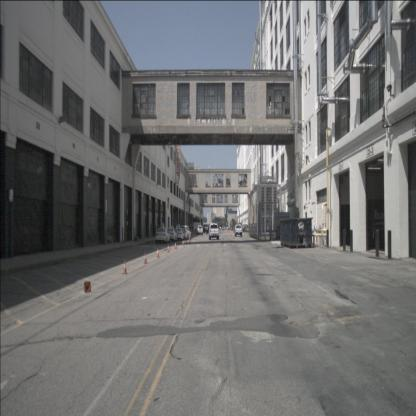human-pedestrian-adult: (157, 224, 160, 238), (193, 224, 196, 234), (176, 223, 178, 236), (206, 226, 208, 235), (194, 225, 196, 233)
movable_object-trafficcone: (122, 260, 128, 274), (156, 248, 160, 258), (166, 244, 170, 253), (144, 252, 147, 263), (175, 242, 177, 249), (189, 238, 191, 244), (182, 240, 184, 246)
vehicle-car: (155, 228, 171, 243), (180, 225, 192, 240), (166, 228, 177, 242), (175, 228, 184, 241), (235, 224, 242, 237), (197, 226, 203, 235)
vehicle-truck: (209, 223, 219, 240)
